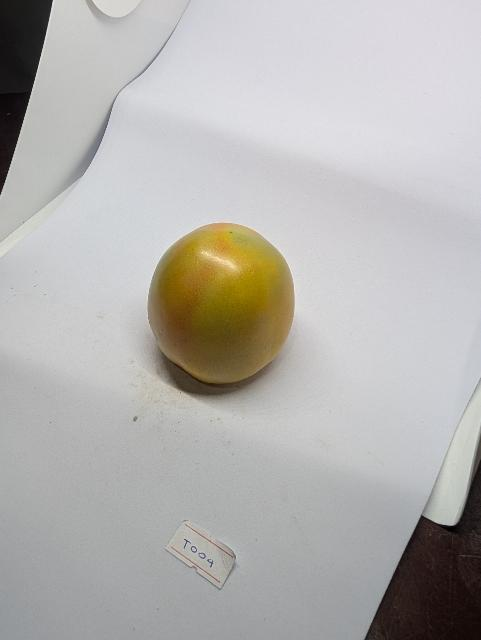breaker: (144, 217, 306, 394)
